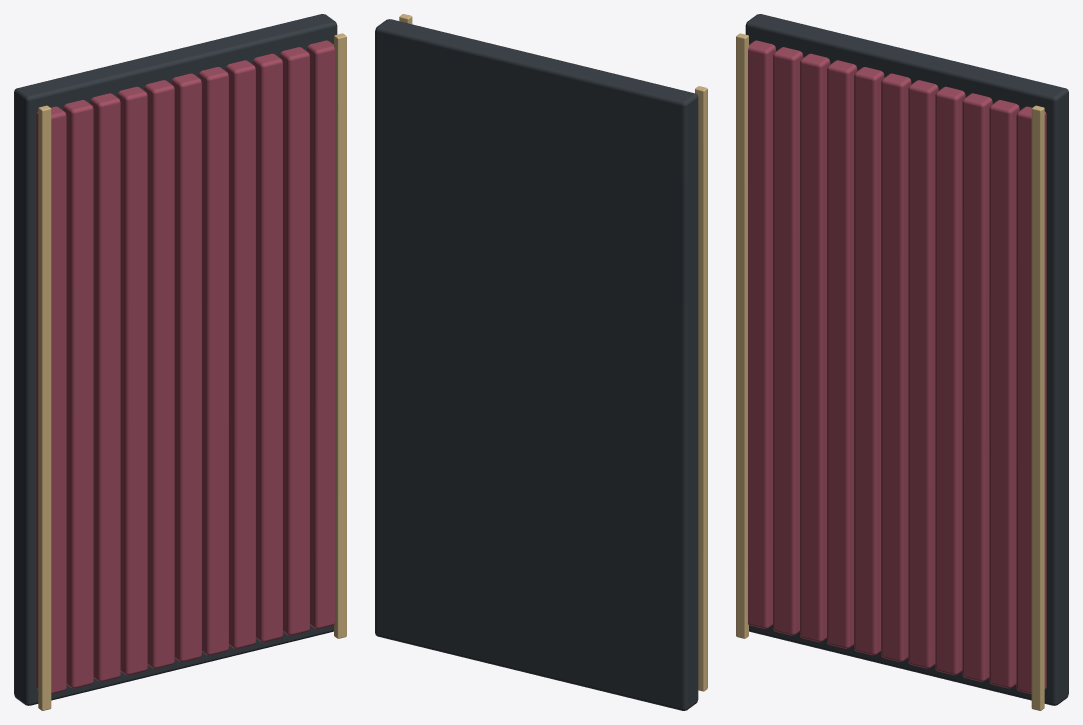
File: abandoned-cinema-and-projection-booth-abandoned-cinema-290955c6__29717.glb
3 views of the same model, side by side, from view 1: azimuth 30°, elevation 25°; view 2: azimuth 150°, elevation 25°; view 3: azimuth 330°, elevation 25° (orthographic).
Parts seen in each view (by area): view 1: abandoned-cinema-and-projection-booth-wall-acoustic-panel; view 2: abandoned-cinema-and-projection-booth-wall-acoustic-panel; view 3: abandoned-cinema-and-projection-booth-wall-acoustic-panel.
Part boxes in pixels (box(x1,y1,x2,y2)): abandoned-cinema-and-projection-booth-wall-acoustic-panel: box(14, 14, 346, 710); abandoned-cinema-and-projection-booth-wall-acoustic-panel: box(375, 14, 707, 710); abandoned-cinema-and-projection-booth-wall-acoustic-panel: box(736, 14, 1068, 710).
Size of the model in its own units: 0.75 by 1.4 by 0.109.
